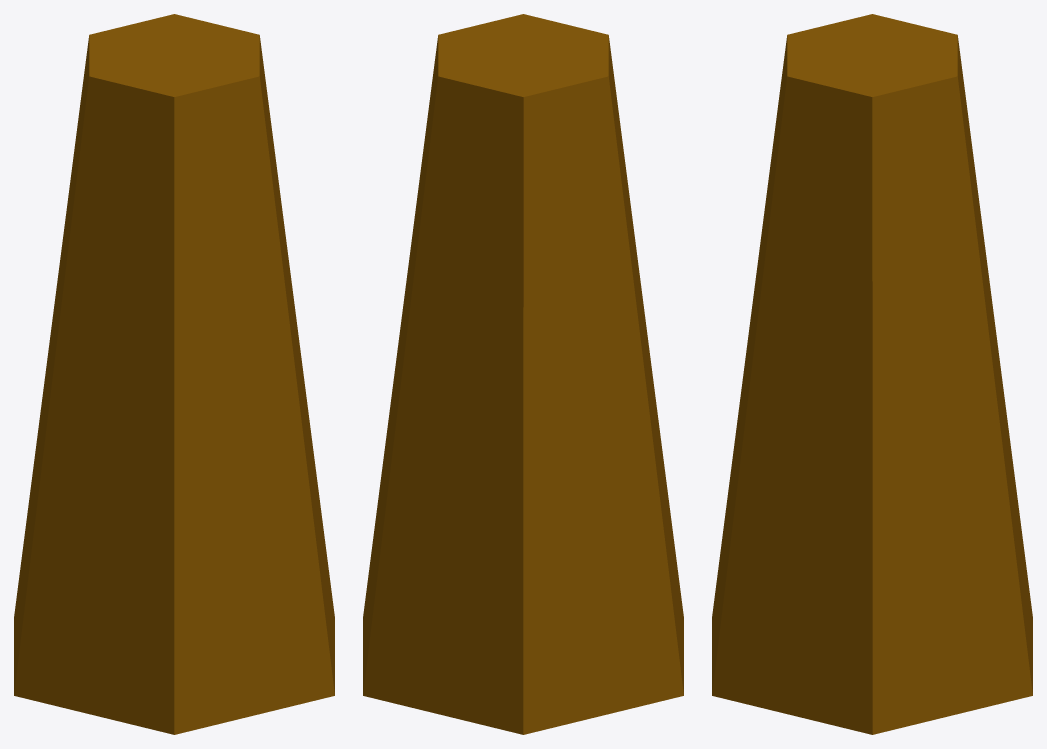
Rendered from Troncote.fbx.
3 renders of one model, left to right at view 1: azimuth 30°, elevation 25°; view 2: azimuth 150°, elevation 25°; view 3: azimuth 270°, elevation 25°, orthographic.
Visible parts, largest first — view 1: arbol_centro:polySurface8; view 2: arbol_centro:polySurface8; view 3: arbol_centro:polySurface8.
Boxes of the visible parts, box(x1,y1,x2,y2) form: arbol_centro:polySurface8: box(14, 14, 334, 734); arbol_centro:polySurface8: box(363, 14, 683, 734); arbol_centro:polySurface8: box(712, 14, 1032, 734).
Bounding box in the file's own units: 3078 × 5508 × 2666.
